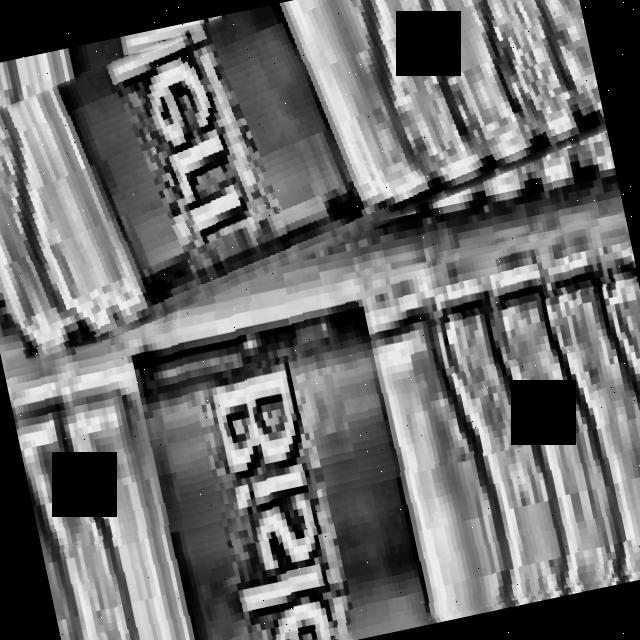bottle: (5, 221, 640, 640), (0, 0, 606, 363)
